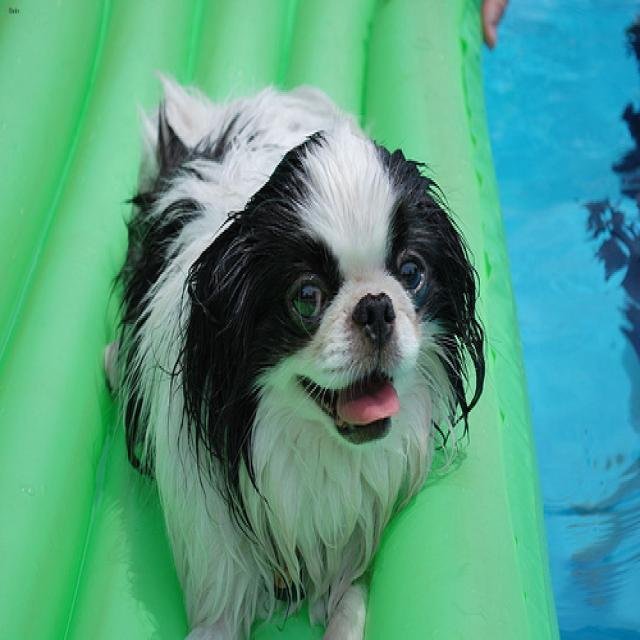dog-japanese_chin: (92, 59, 498, 636)
